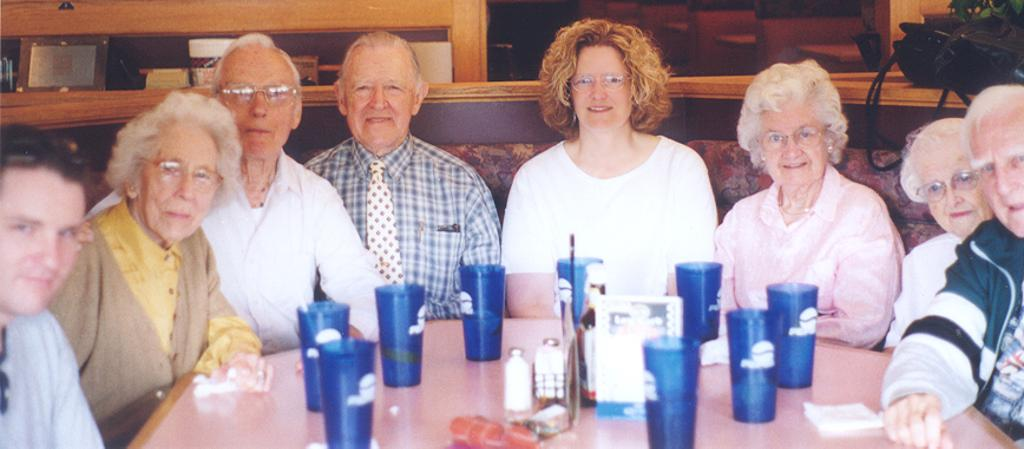face: (0, 170, 83, 315), (140, 121, 216, 239), (219, 43, 292, 155), (968, 108, 1024, 237), (913, 137, 985, 235), (343, 45, 413, 145), (568, 48, 632, 132), (759, 104, 826, 181)
